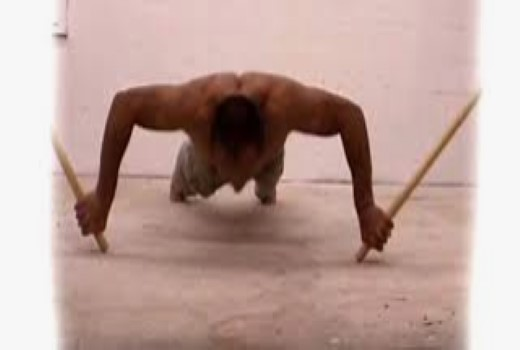baston_e: (357, 89, 475, 242), (55, 161, 113, 242)
baston_v: (79, 231, 123, 262), (350, 238, 380, 266)
